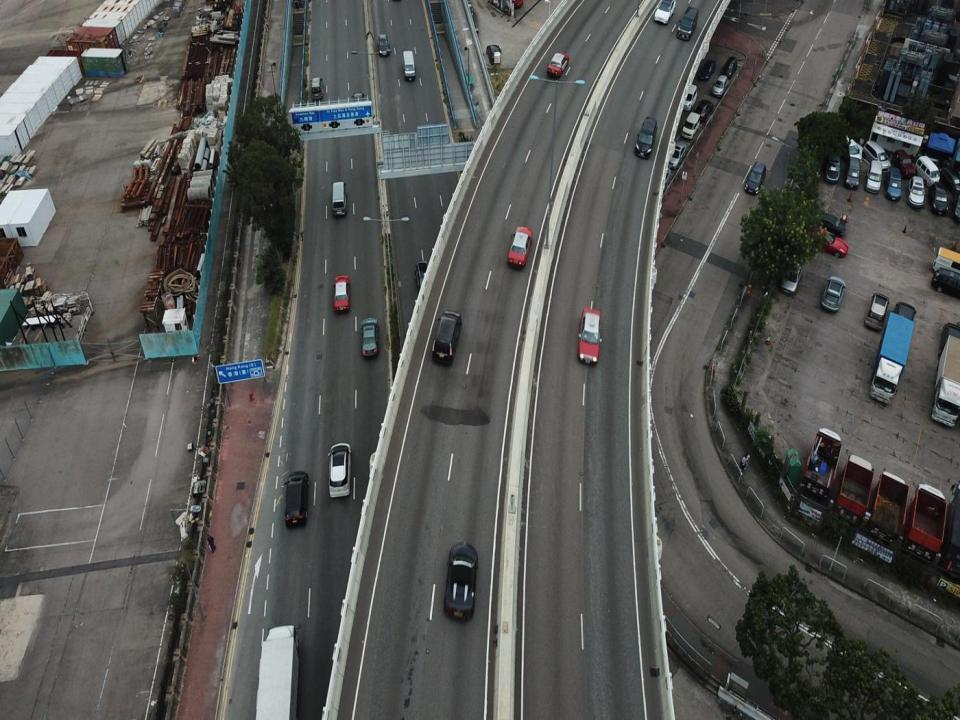car: (443, 539, 479, 620), (431, 306, 462, 365), (575, 306, 604, 365), (283, 469, 310, 529), (326, 439, 352, 500), (807, 226, 850, 258), (632, 115, 658, 161), (507, 224, 531, 268), (811, 208, 848, 235), (892, 299, 916, 340), (357, 314, 379, 358), (776, 256, 802, 293), (931, 265, 960, 297), (865, 290, 888, 330), (694, 41, 716, 81), (676, 5, 700, 41), (822, 274, 844, 312), (545, 50, 572, 80), (938, 164, 960, 199), (350, 92, 369, 131), (744, 160, 765, 195), (863, 142, 889, 170), (332, 274, 350, 314), (416, 260, 436, 296), (666, 137, 686, 170), (884, 168, 903, 202), (893, 146, 913, 178), (677, 82, 699, 110), (865, 160, 883, 192), (653, 0, 675, 26), (931, 181, 946, 216), (682, 111, 700, 140), (826, 147, 840, 184), (907, 176, 923, 208), (845, 156, 860, 189), (694, 97, 712, 124), (718, 53, 736, 79), (374, 28, 389, 57), (487, 43, 505, 67), (308, 72, 323, 99), (713, 73, 728, 96)
truck: (252, 624, 304, 719), (905, 476, 946, 584), (868, 311, 914, 403), (868, 469, 911, 553), (836, 445, 876, 524), (803, 423, 844, 499), (930, 335, 960, 428)
van: (834, 130, 862, 164), (930, 245, 960, 276), (916, 156, 939, 187), (330, 180, 348, 219), (399, 48, 418, 80)
